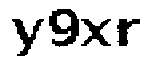9: (46, 4, 82, 48)
r: (116, 17, 143, 50)
x: (79, 16, 113, 49)
y: (9, 17, 43, 60)
